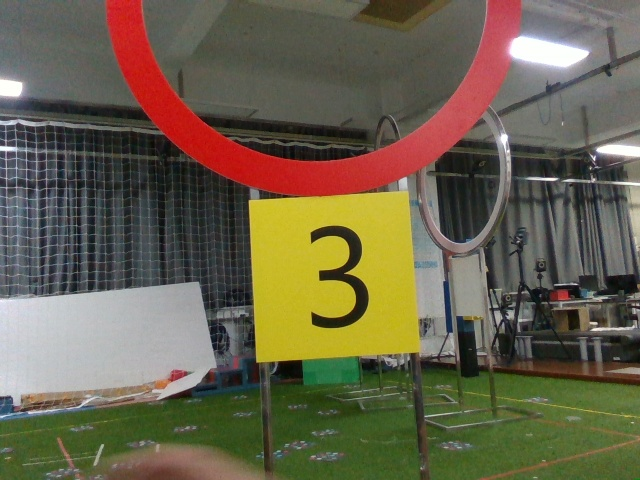target: (251, 202, 414, 354)
